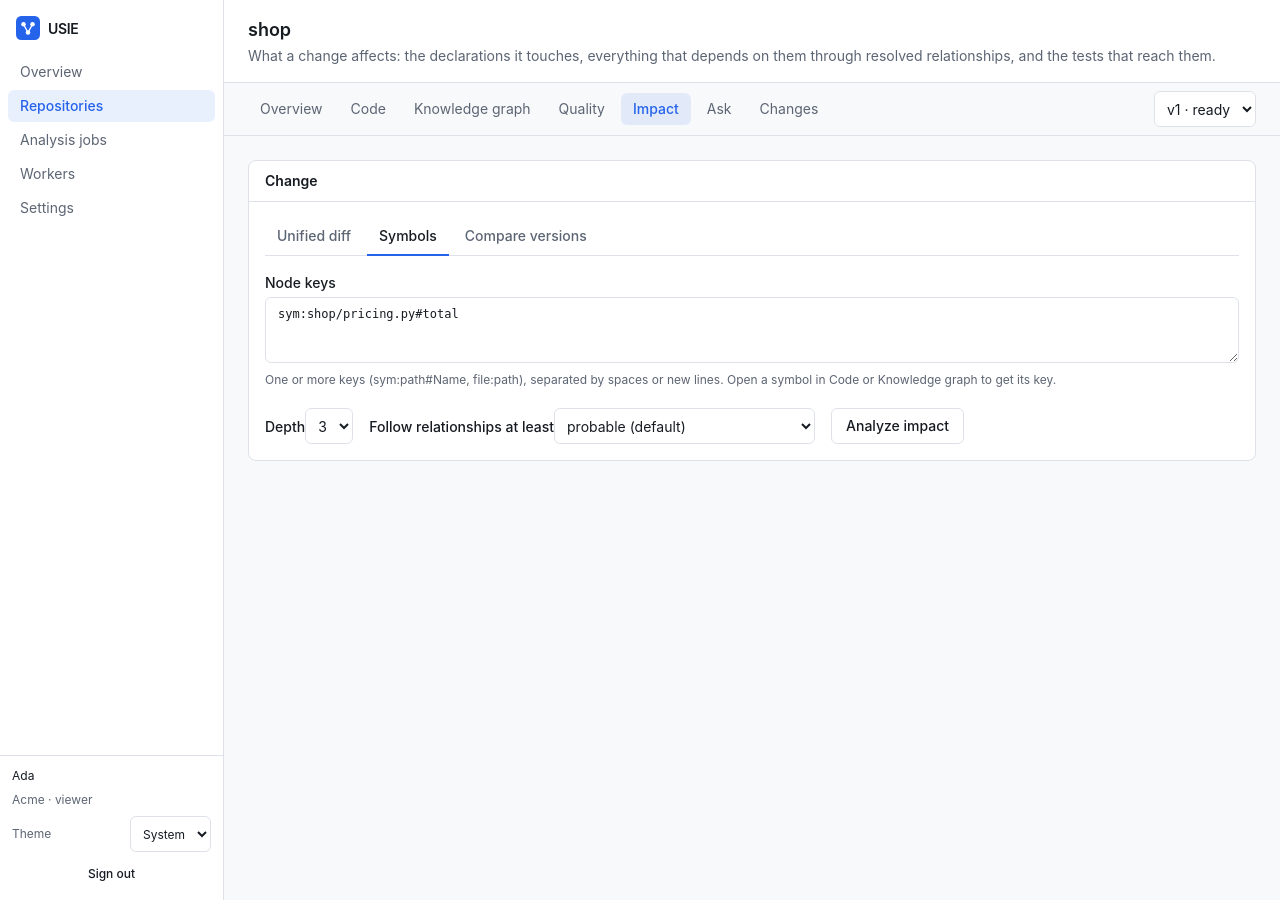
Test: impact page › starts from a symbol given in the URL
The width and height of the screenshot is (1280, 900).
Expected: the text box showing "sym:shop/pricing.py#total" is shown, [265,297,1239,363]
Click the button "Analyze impact": (898, 426) [831,408,964,444]
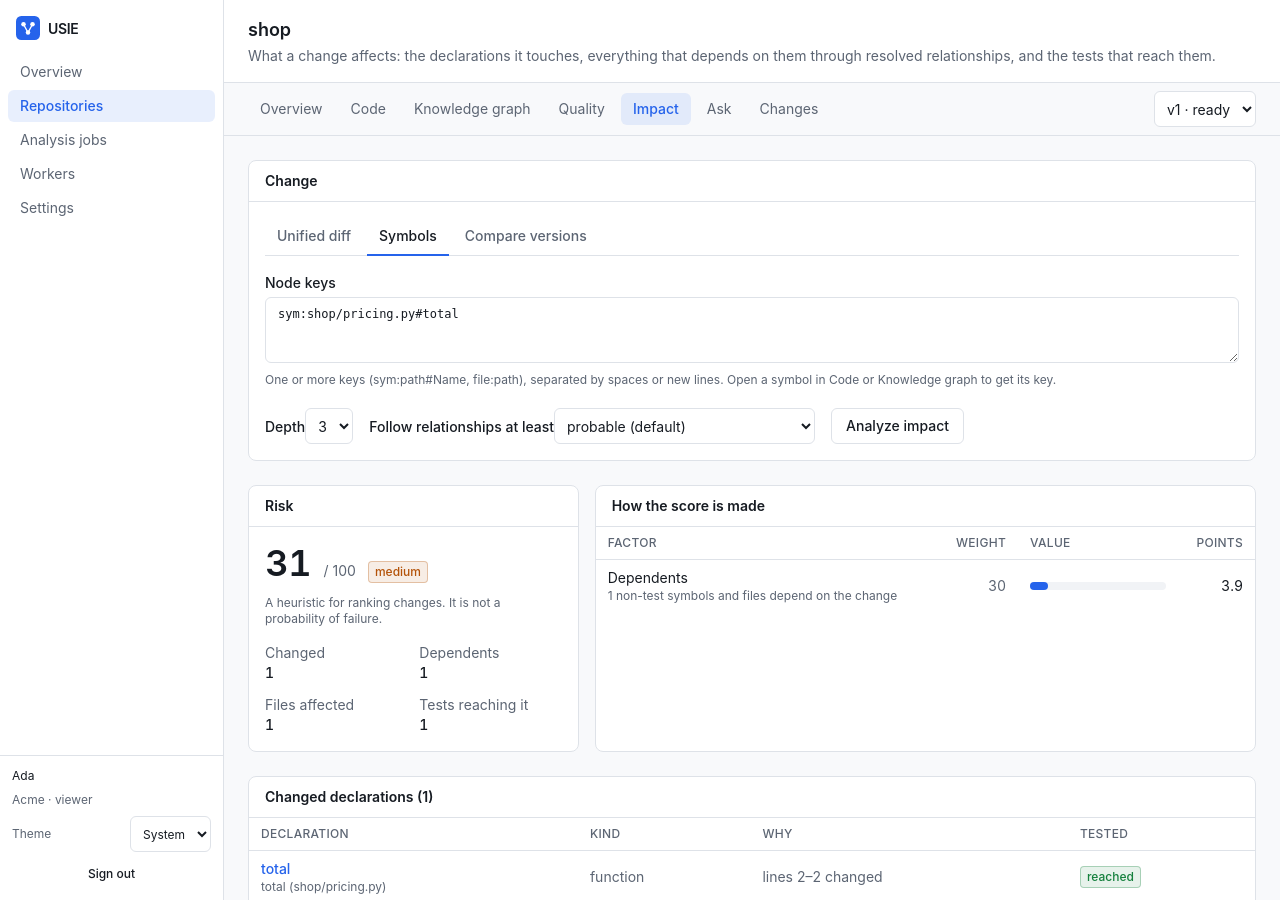
Expected: the text named "Risk score 31 of 100" is shown, [265,543,312,583]
